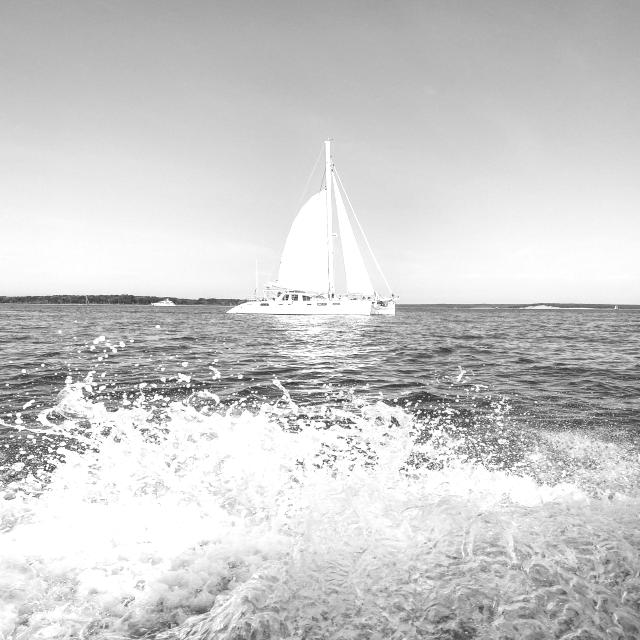ship: (221, 152, 413, 326)
